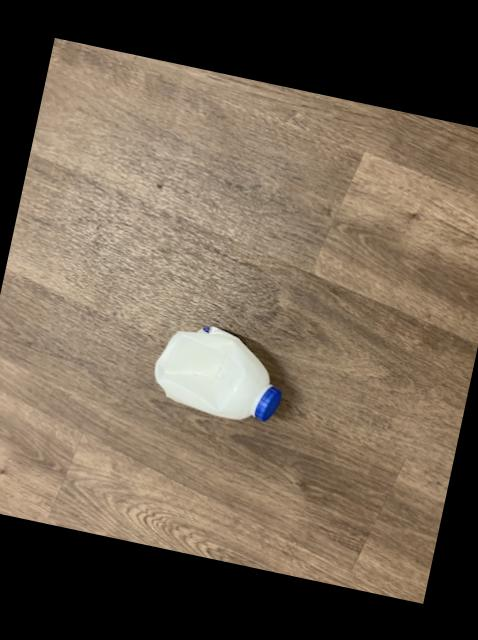plastic: (154, 324, 280, 418)
